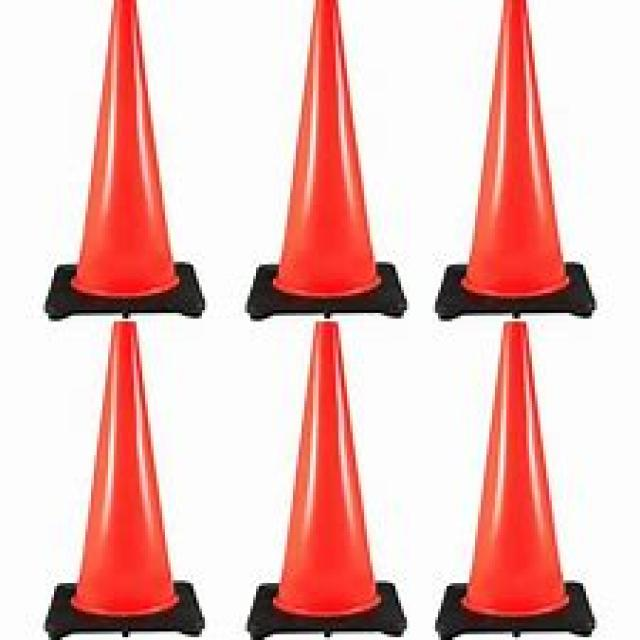traffic cone: (233, 1, 415, 327), (429, 1, 606, 336), (36, 1, 215, 324), (424, 316, 598, 640), (240, 318, 415, 640), (38, 316, 208, 640)
